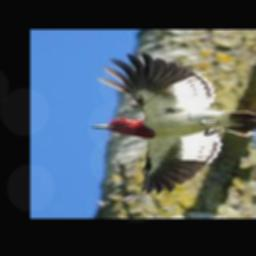Woodpecker: (90, 53, 256, 200)
